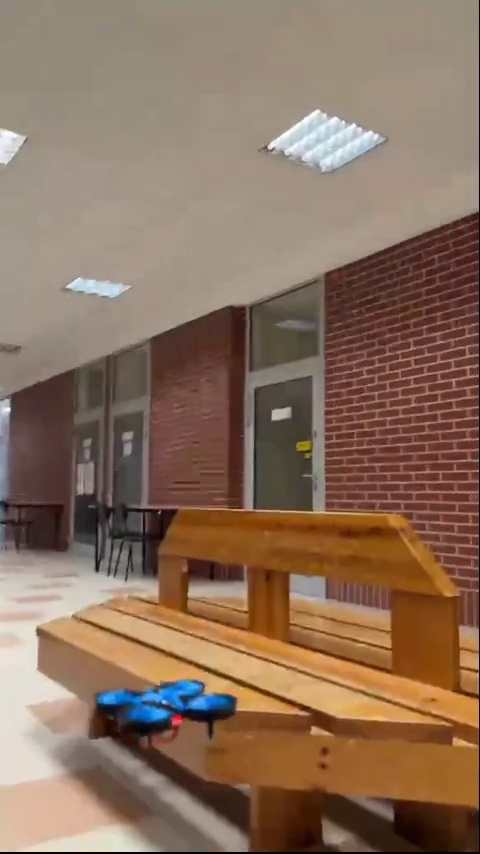drone: (89, 677, 230, 746)
